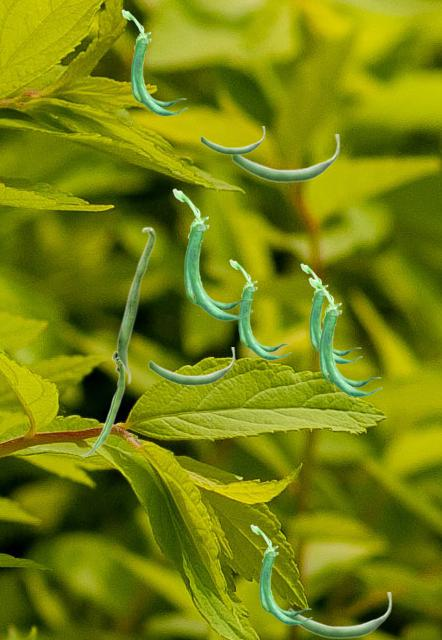french_bean: (172, 188, 252, 320), (308, 277, 381, 396), (121, 9, 186, 115), (116, 226, 155, 384), (229, 259, 290, 359), (300, 263, 361, 363), (250, 524, 311, 624), (231, 134, 339, 182), (288, 592, 391, 638), (80, 350, 124, 456), (148, 347, 234, 385), (200, 126, 264, 154)
